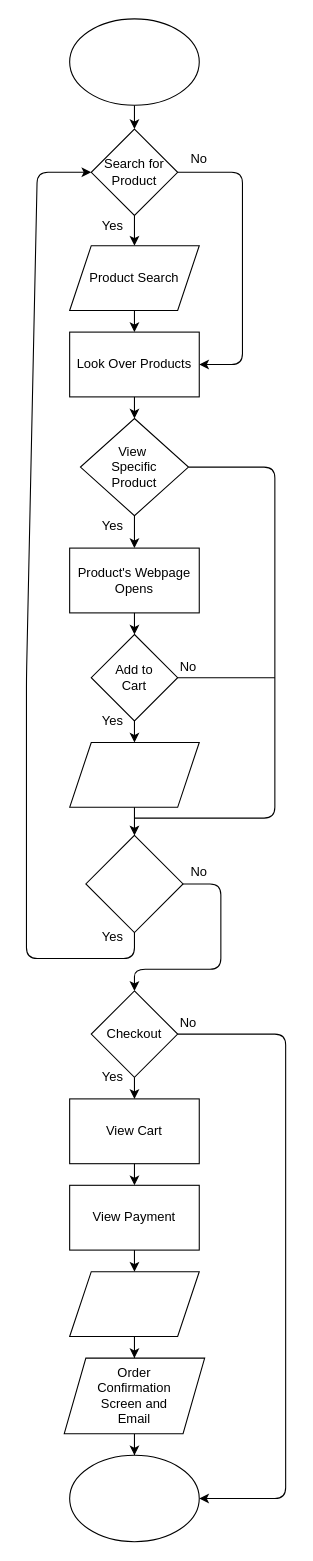
Image size: 313x1561. Some labels were removed from this diagram. The centre of each missing label's shape, as x and y in pixels:
"Added to Cart Confirmation" goes at pixel 134 774.
"Continue Shopping" goes at pixel 134 883.
"Enter Website" goes at pixel 134 61.
"Leave Website" goes at pixel 134 1498.
"Payment Information" goes at pixel 134 1303.
